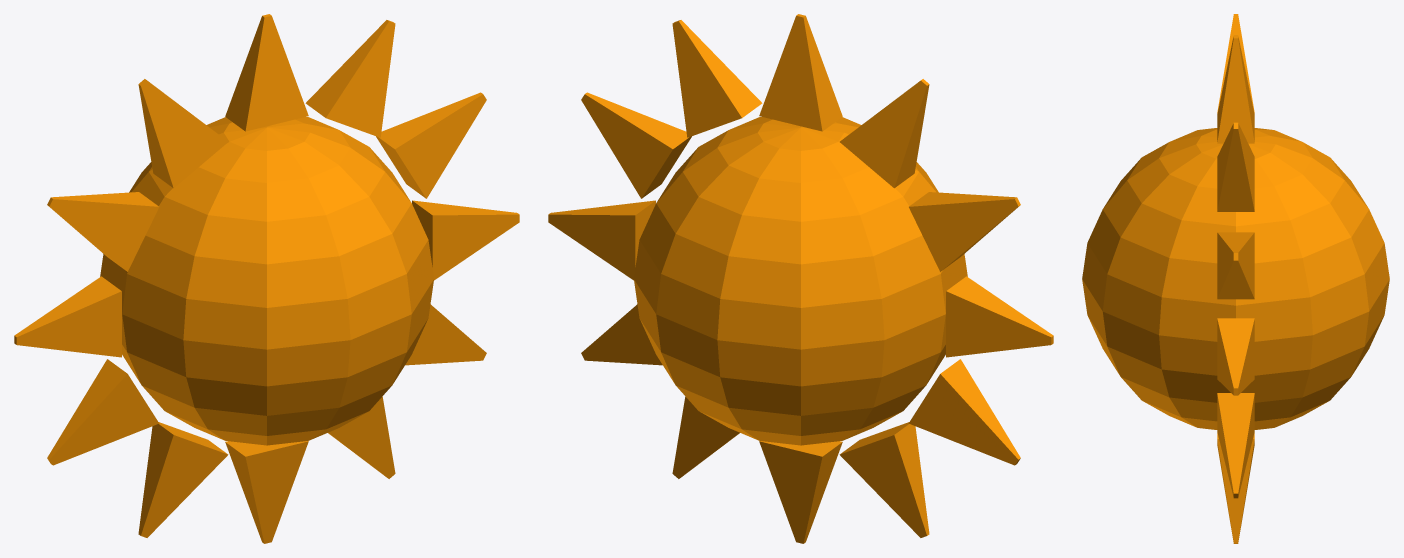
File: sun.glb
3 views of the same model, side by side, from view 1: azimuth 30°, elevation 25°; view 2: azimuth 150°, elevation 25°; view 3: azimuth 270°, elevation 25° (orthographic). The views are drawn at different scales.
Parts seen in each view (by area): view 1: Object_4; view 2: Object_4; view 3: Object_4.
Boxes of the visible parts, x1=… form: Object_4: x1=14, y1=14, x2=519, y2=543; Object_4: x1=548, y1=14, x2=1053, y2=543; Object_4: x1=1082, y1=14, x2=1389, y2=543.
Size of the model in its own units: 3.91 by 3.91 by 2.25.
